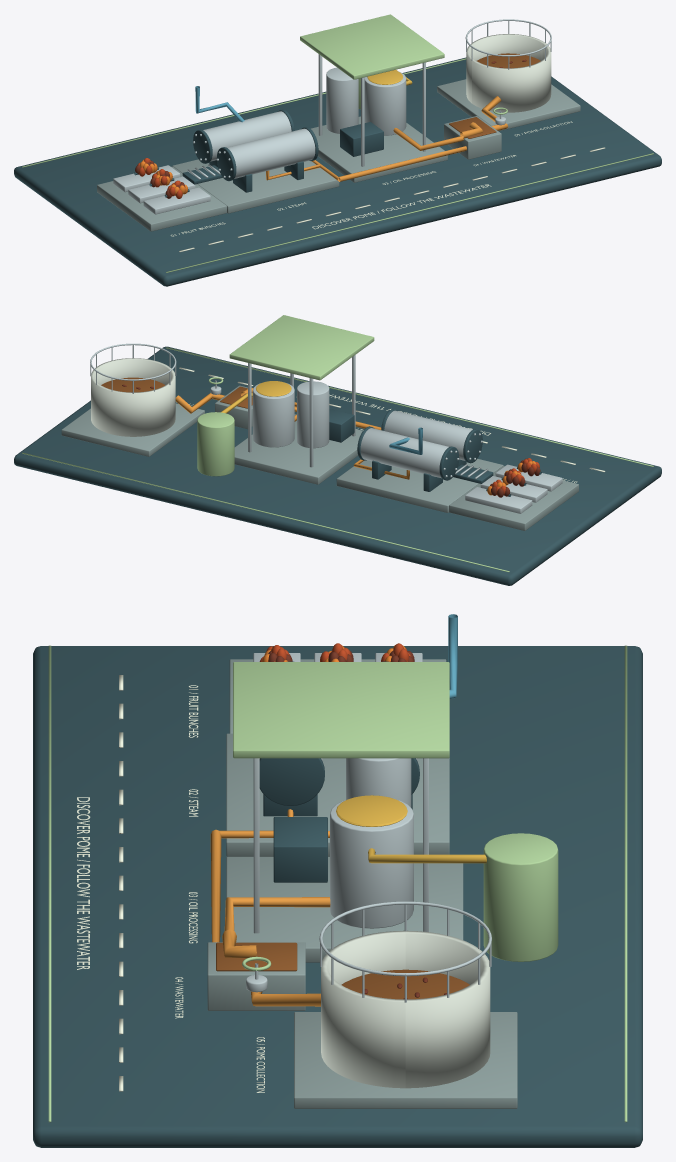
The model's file is discovery-mill.f777a3ce0422.glb.
The picture shows the model from 3 angles, top to bottom: view 1: azimuth 30°, elevation 25°; view 2: azimuth 150°, elevation 25°; view 3: azimuth 270°, elevation 25°; orthographic projection. The views are drawn at different scales.
Visible parts, largest first — view 1: Mill_Graphite steel, Discovery_2_Safety mint, Discovery_2_Stainless equipment, Discovery_1_Stainless equipment, Tank_cut_shell, Discovery_1_Concrete floor, Discovery_2_Concrete floor, Discovery_0_Concrete floor, Discovery_0_Stainless equipment, Discovery_4_Concrete floor, Discovery_1_Graphite steel, Discovery_4_Warm cladding (+12 smaller); view 2: Mill_Graphite steel, Discovery_2_Safety mint, Discovery_2_Stainless equipment, Discovery_1_Stainless equipment, Discovery_2_Concrete floor, Discovery_4_Warm cladding, Discovery_1_Concrete floor, Discovery_4_Concrete floor, Discovery_0_Concrete floor, Discovery_0_Stainless equipment, Discovery_1_Graphite steel, Mill_Safety mint (+10 smaller); view 3: Mill_Graphite steel, Discovery_2_Safety mint, Discovery_2_Stainless equipment, Discovery_4_Warm cladding, Tank_cut_shell, Discovery_2_Concrete floor, Discovery_4_Concrete floor, Discovery_1_Concrete floor, Discovery_1_Graphite steel, Mill_Safety mint, Discovery_2_Graphite steel, Discovery_3_Concrete floor (+8 smaller).
Part boxes in pixels (x1,y1,x2,y2): Mill_Graphite steel: (14,57,661,286); Discovery_2_Safety mint: (300,14,444,109); Discovery_2_Stainless equipment: (318,54,425,166); Discovery_1_Stainless equipment: (193,111,315,178); Tank_cut_shell: (472,43,551,112); Discovery_1_Concrete floor: (172,159,339,213); Discovery_2_Concrete floor: (311,116,447,182); Discovery_0_Concrete floor: (97,166,226,231); Discovery_0_Stainless equipment: (113,164,220,214); Discovery_4_Concrete floor: (437,79,580,131); Discovery_1_Graphite steel: (193,109,318,192); Discovery_4_Warm cladding: (466,34,544,103); Mill_Graphite steel: (14,346,661,585); Discovery_2_Safety mint: (197,315,374,476); Discovery_2_Stainless equipment: (248,355,355,467); Discovery_1_Stainless equipment: (360,410,482,478); Discovery_2_Concrete floor: (234,414,362,484); Discovery_4_Warm cladding: (91,367,169,436); Discovery_1_Concrete floor: (336,458,503,512); Discovery_4_Concrete floor: (61,403,204,456); Discovery_0_Concrete floor: (449,466,578,530); Discovery_0_Stainless equipment: (455,463,562,513); Discovery_1_Graphite steel: (357,409,482,491); Mill_Safety mint: (22,347,653,572); Mill_Graphite steel: (33,646,642,1147); Discovery_2_Safety mint: (233,662,558,961); Discovery_2_Stainless equipment: (253,758,428,933); Discovery_4_Warm cladding: (405,930,490,1088); Tank_cut_shell: (321,930,405,1088); Discovery_2_Concrete floor: (226,856,463,962); Discovery_4_Concrete floor: (294,1012,517,1108); Discovery_1_Concrete floor: (226,733,449,856); Discovery_1_Graphite steel: (259,661,419,816); Mill_Safety mint: (48,645,627,1122); Discovery_2_Graphite steel: (273,817,327,882); Discovery_3_Concrete floor: (207,942,305,1010).
Size of the model in its own units: 17 by 3.85 by 9.
